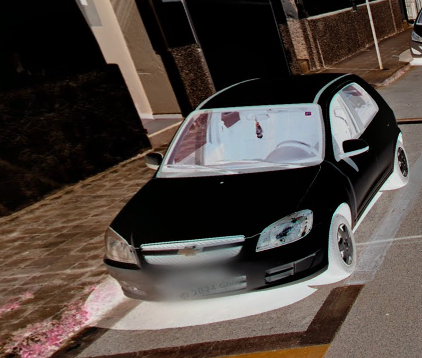car: (100, 72, 413, 310)
